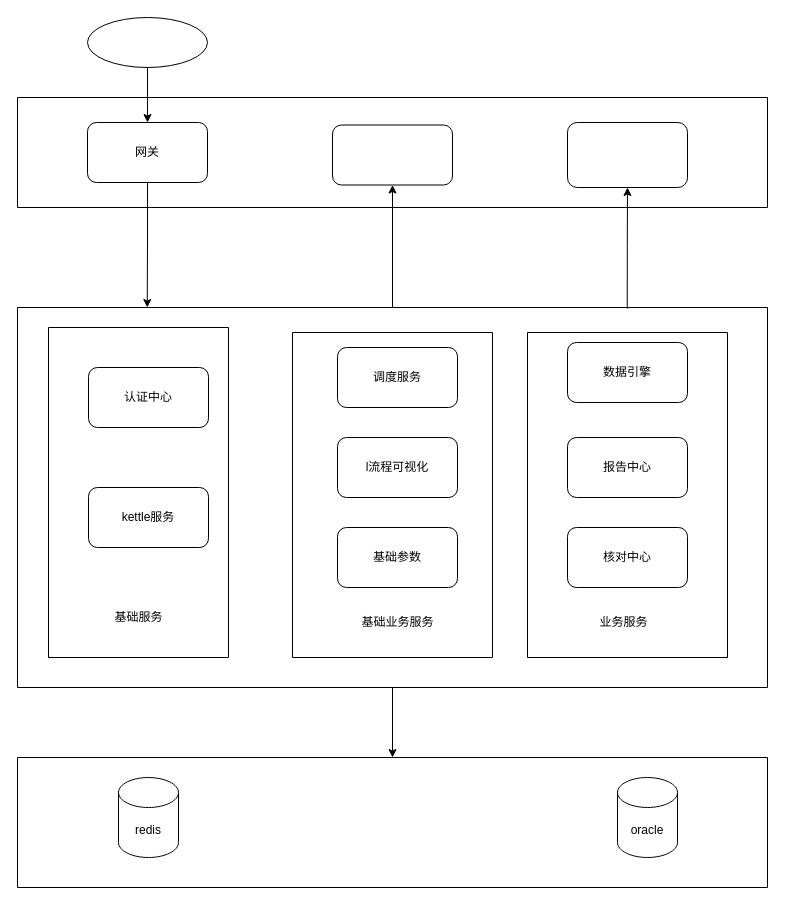
The diagram is 785 pixels wide and 905 high, and some of its shapes have lost their labels. The shapes that lost their labels are listed below. From the top down, each one's centre as x and y in pixels, then its label:
At (x=147, y=42): "浏览器".
At (x=392, y=154): "配置中心".
At (x=627, y=155): "注册中心".
